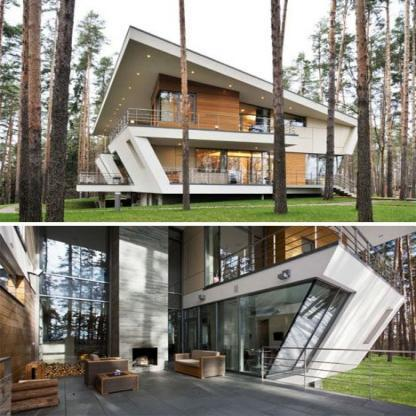Balcony: (128, 108, 295, 134), (163, 167, 326, 186)
Building Outline: (76, 25, 368, 211)
Door: (242, 115, 256, 133)
Facade: (128, 25, 362, 207)
Floor Slab: (128, 126, 298, 144), (159, 185, 324, 194)
Glass Wall: (196, 149, 227, 184), (270, 110, 303, 133), (252, 152, 269, 186)
Window: (156, 91, 194, 124), (239, 103, 256, 114), (228, 150, 252, 157)
